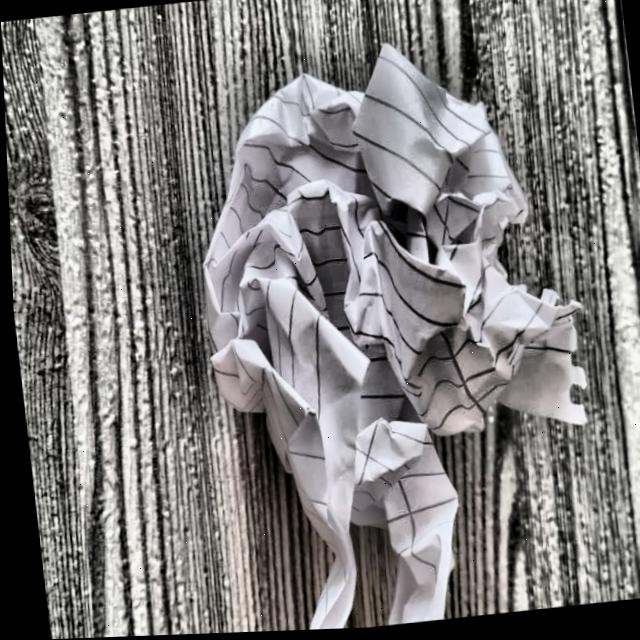paper: (186, 36, 603, 635)
